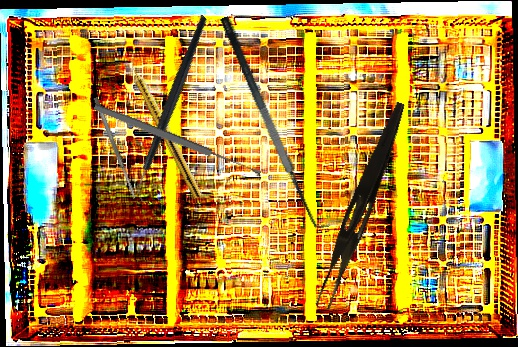Chopper: (83, 14, 263, 204)
Dressing Forceps: (314, 97, 409, 313)
Handpiece: (124, 57, 206, 200)
Spatula Surgical: (218, 8, 335, 236), (92, 96, 138, 200)
Surgical Spoon: (92, 101, 263, 179)
